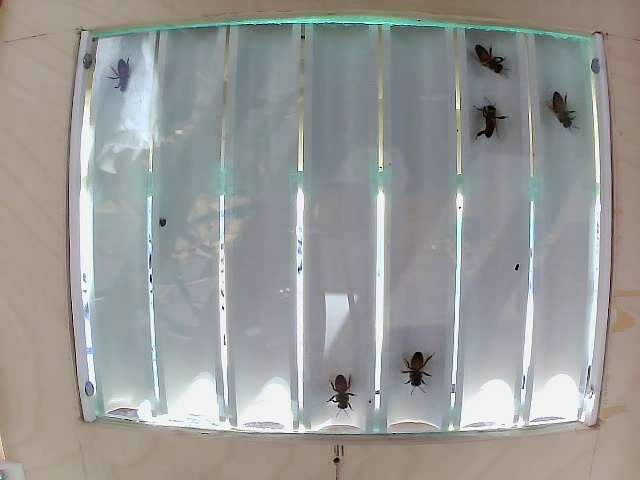bee: (468, 92, 518, 146), (315, 366, 372, 408), (110, 47, 154, 91), (480, 39, 520, 78), (401, 350, 435, 383), (555, 92, 582, 130)
